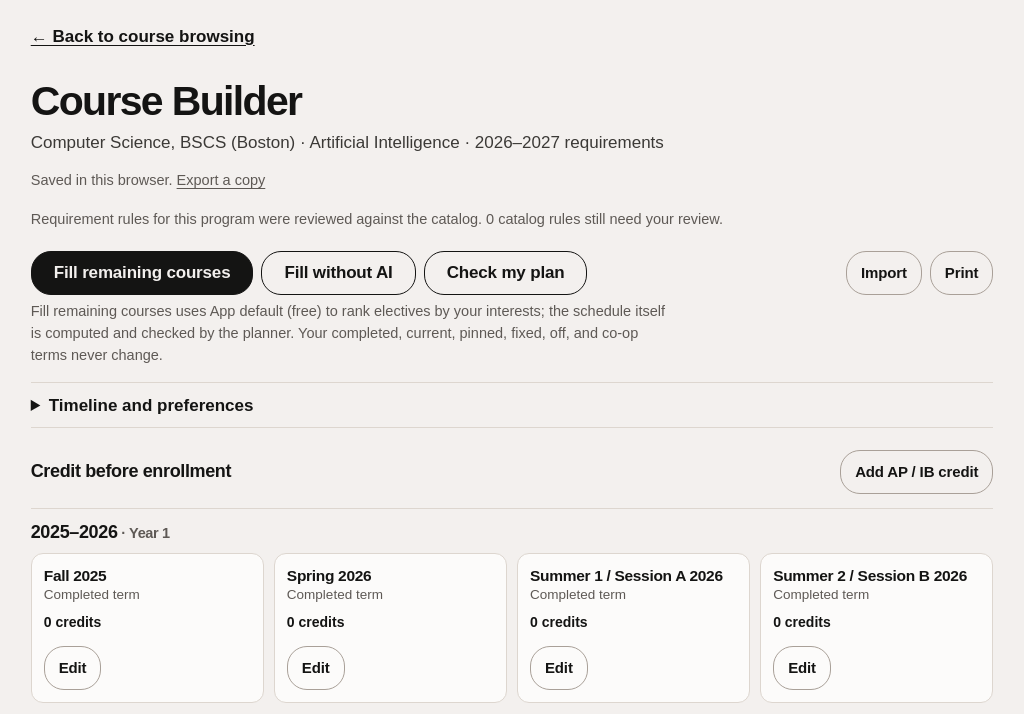
Test: an actionable AI error keeps the draft and offers generation without AI
The width and height of the screenshot is (1024, 714).
Expected: the text "were reviewed against the catalog" is shown, [31, 211, 723, 227]
Click the button "Fill remaining courses".
click(142, 273)  # box [31, 251, 253, 295]
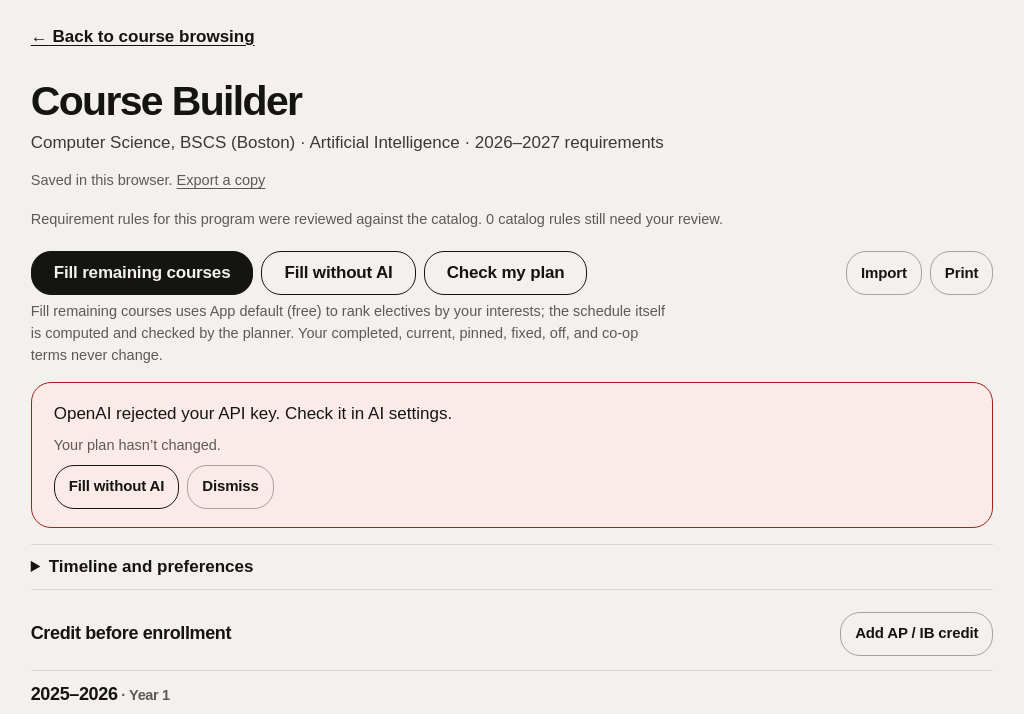
Now the text "OpenAI rejected your API key. Check it in AI settings." is shown, box [54, 404, 452, 423]
Now the text "Your plan hasn’t changed." is shown once, box [54, 437, 221, 453]
Click the button "Fill without AI" below "Your plan hasn’t changed.".
click(116, 486)  # box [54, 464, 179, 508]
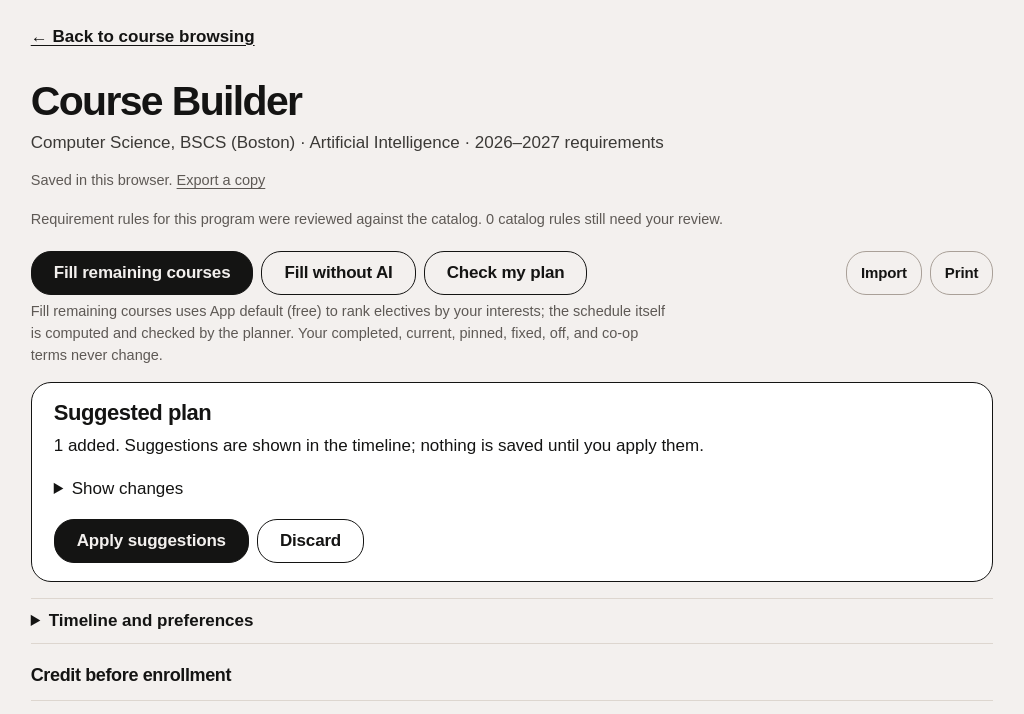
Now the heading "Suggested plan" is shown, box [54, 400, 211, 425]
